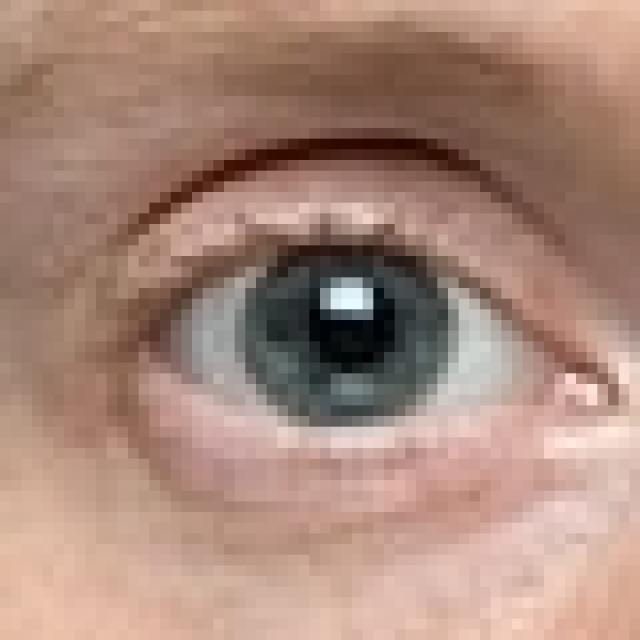eye: (72, 141, 626, 552)
gaze: (224, 223, 463, 436)
